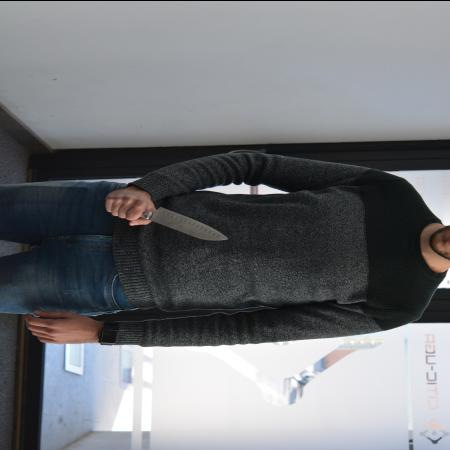long weapon: (138, 203, 234, 242)
